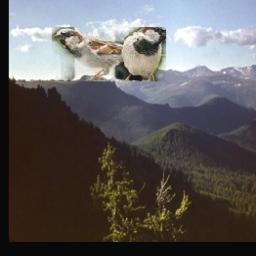Sparrow: (53, 27, 167, 81)
